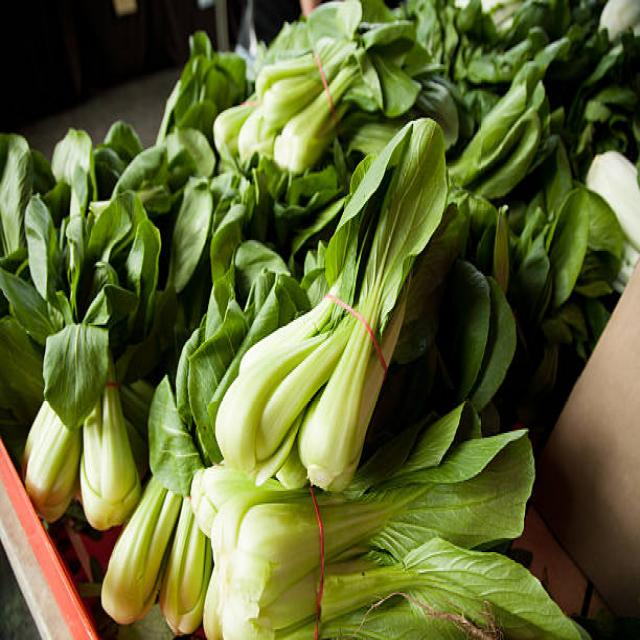bok choy: (227, 473, 534, 640), (18, 166, 131, 511), (266, 263, 408, 460), (224, 30, 418, 134)
